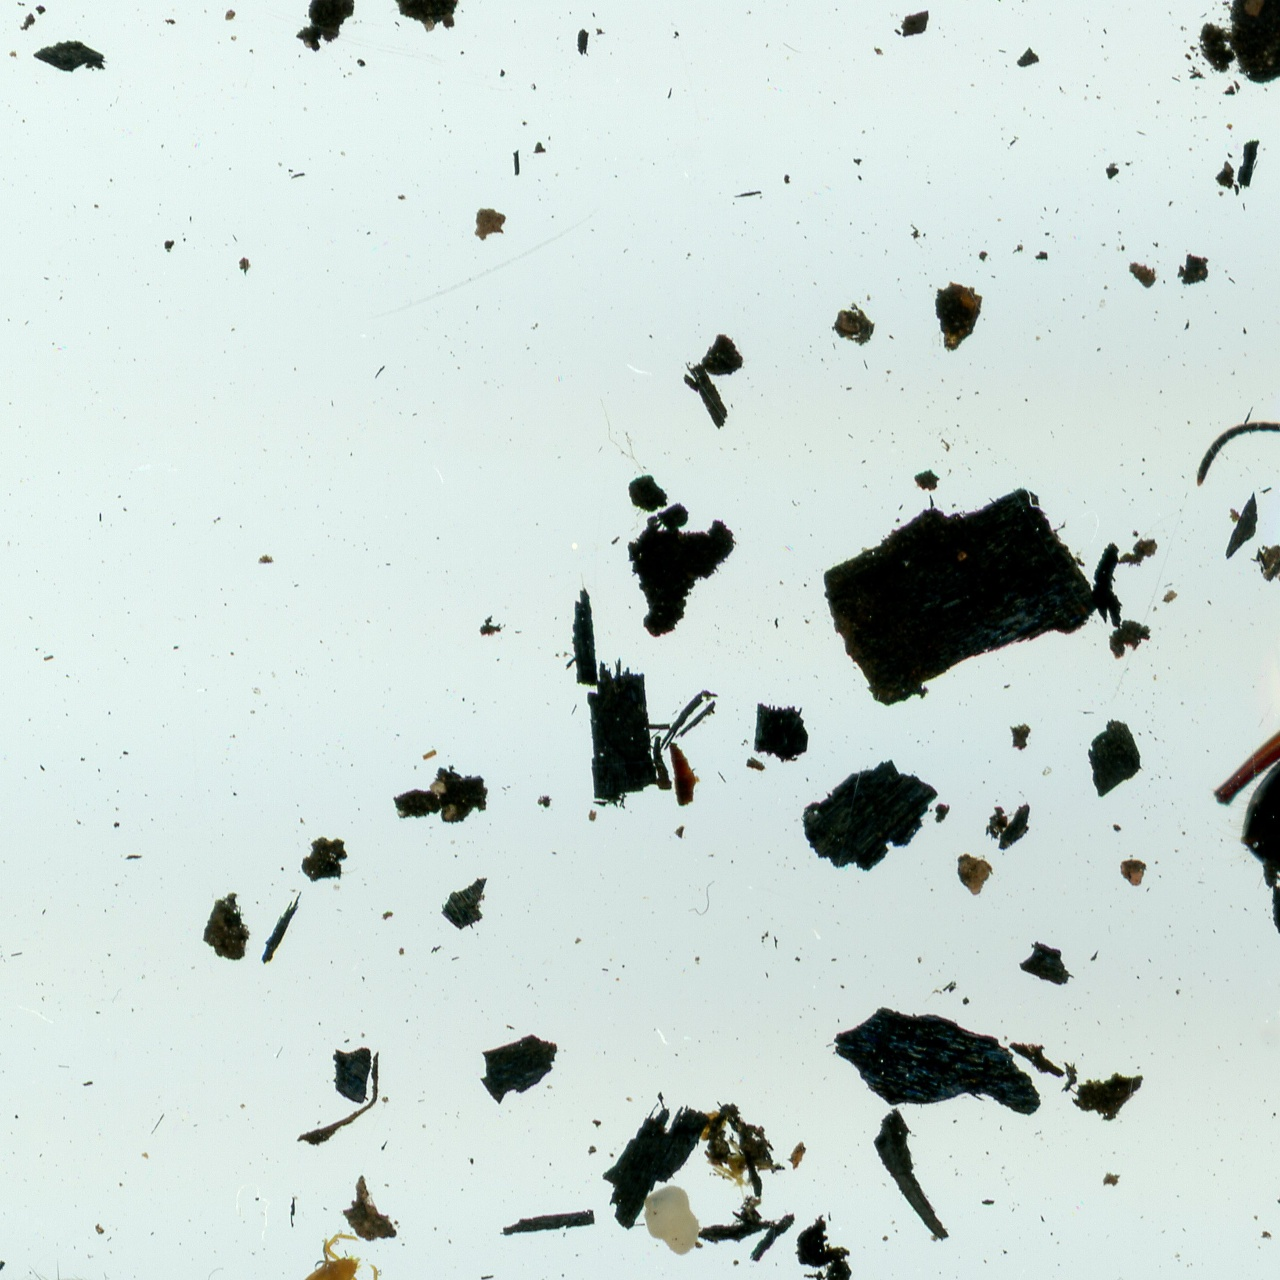arthropod: (1182, 359, 1280, 898), (293, 1230, 383, 1280)
